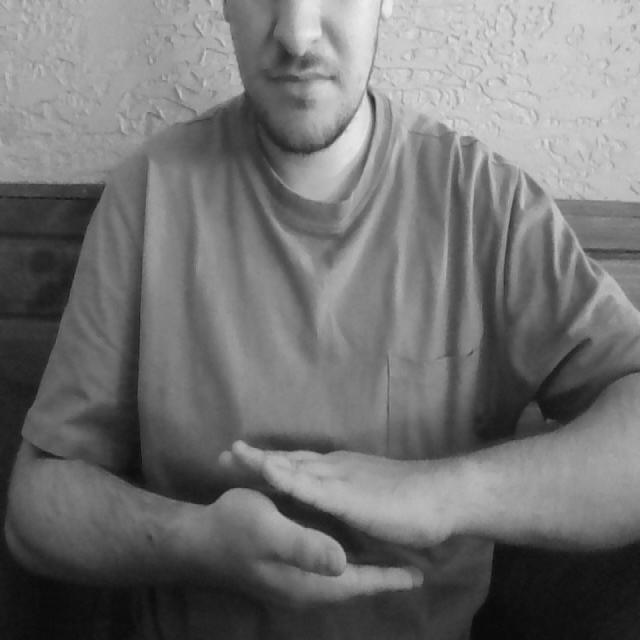Arkadas: (67, 424, 588, 614)
